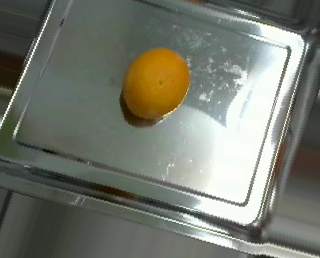Orange: (122, 46, 190, 119)
